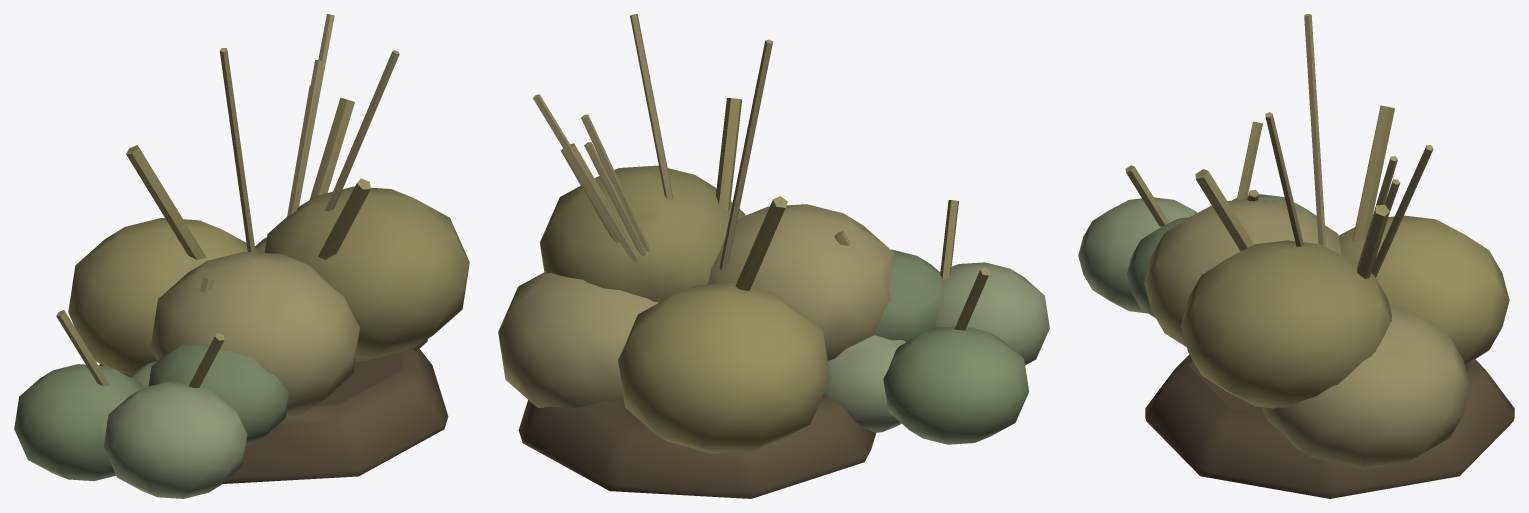
The model's file is bursage_b.glb.
3 renders of one model, left to right at view 1: azimuth 30°, elevation 25°; view 2: azimuth 150°, elevation 25°; view 3: azimuth 270°, elevation 25°, orthographic.
Parts seen in each view (by area): view 1: Surface; view 2: Surface; view 3: Surface.
Part boxes in pixels (left/top/right/bottom): Surface: left=14, top=14, right=469, bottom=498; Surface: left=498, top=14, right=1049, bottom=498; Surface: left=1078, top=14, right=1514, bottom=498.
Bounding box in the file's own units: 1.85 × 1.51 × 1.56.
